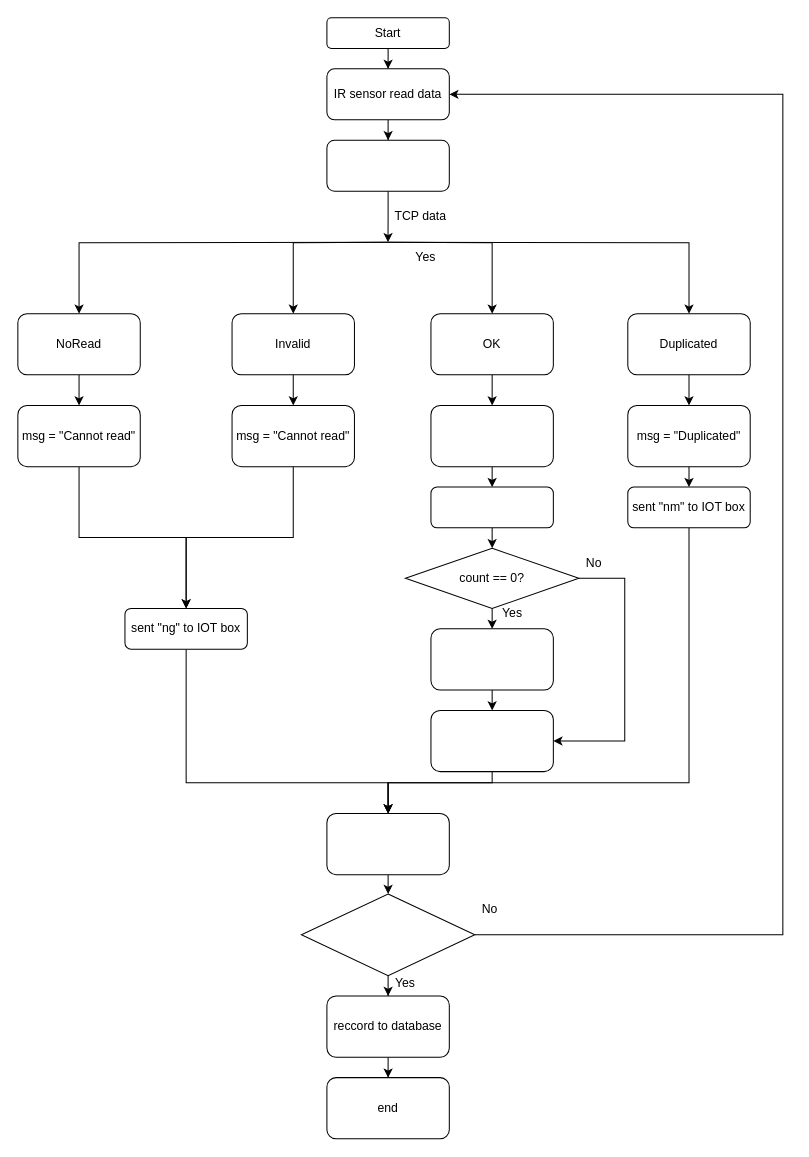
Image size: 809x1157. Some labels were removed from this diagram. The shapes that lost their labels are listed below. From the top down, each one's centre as x and y in pixels, then its label:
[387,165]: Camera take a picture
[491,435]: msg = "Read success"
[491,507]: sent "ok" to IOT box
[491,659]: set Master
[491,740]: Save to record.env
[387,843]: save to show.env and show to dashboard
[387,934]: count >= total_master?
